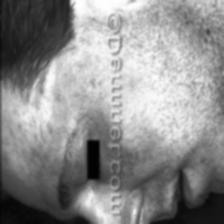Toxin: (26, 104, 54, 154), (132, 129, 154, 173)
